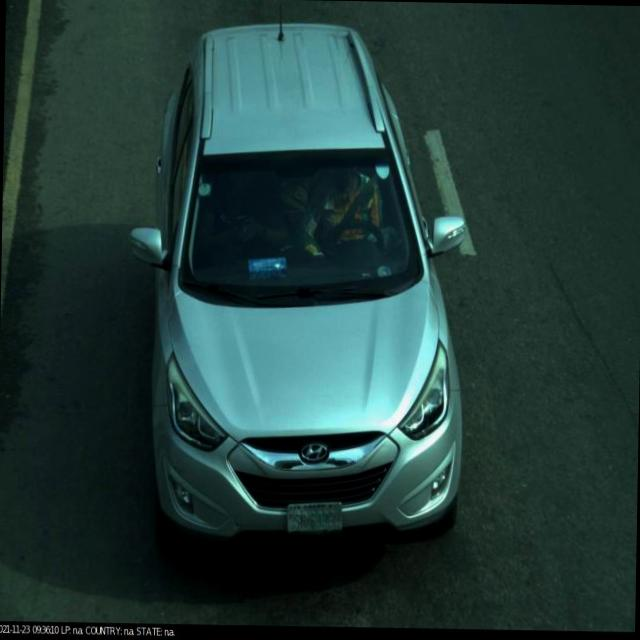person_with_seatbelt: (306, 150, 401, 272)
